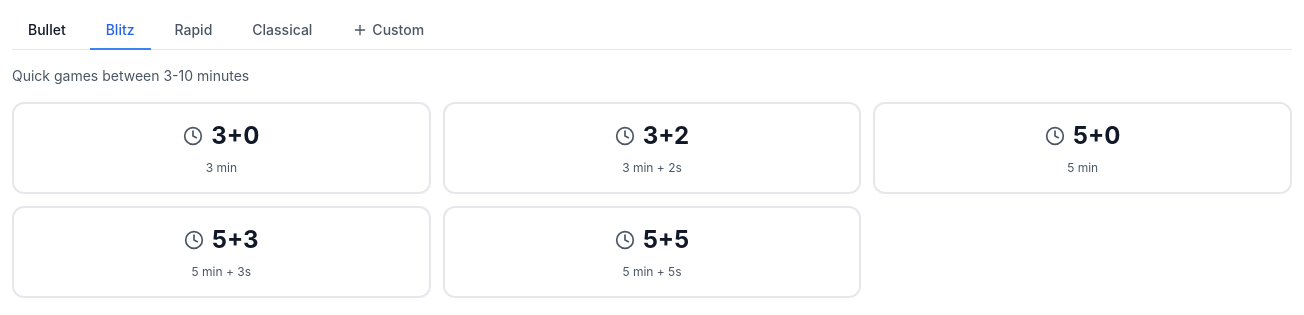
Test case: TimeControlSelector › Rapid Time Controls (Requirement 5.3) › should display all rapid time controls
Click the button with test id "category-tab-rapid".
click(193, 31)  # box [158,12,228,50]
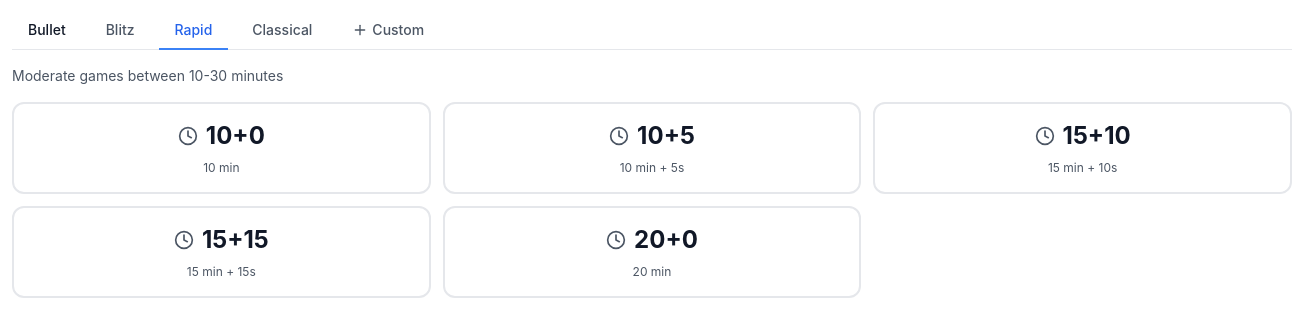
Expected: the button with test id "time-control-rapid-10+0" is shown, [12,102,431,194]
Expected: the button with test id "time-control-rapid-10+5" is shown, [443,102,861,194]
Expected: the button with test id "time-control-rapid-15+10" is shown, [873,102,1292,194]
